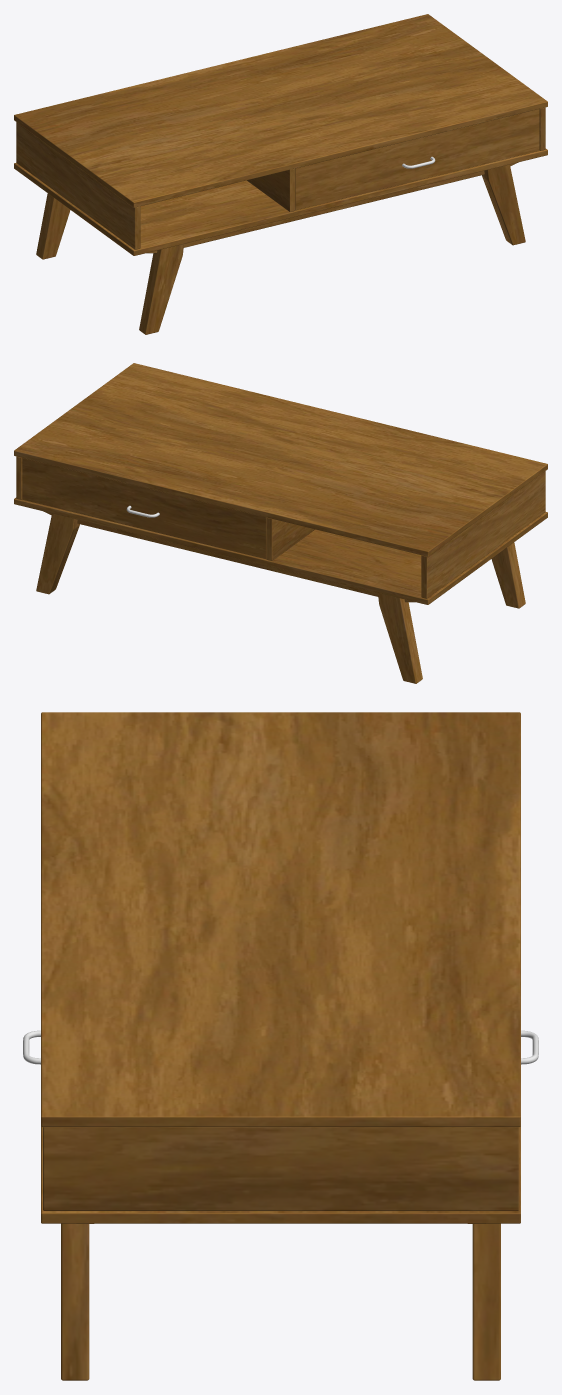
The model's file is p_s_table.glb.
3 views of the same model, one above another, from view 1: azimuth 30°, elevation 25°; view 2: azimuth 150°, elevation 25°; view 3: azimuth 270°, elevation 25° (orthographic). The views are drawn at different scales.
Parts seen in each view (by area): view 1: Table Maisons; view 2: Table Maisons; view 3: Table Maisons.
Part boxes in pixels (x1=…): Table Maisons: x1=14, y1=14, x2=547, y2=334; Table Maisons: x1=14, y1=363, x2=547, y2=683; Table Maisons: x1=23, y1=712, x2=538, y2=1380.
Bounding box in the file's own units: 0.6732 × 0.2182 × 0.3629.
Materials: 2 (1 with a texture image).
